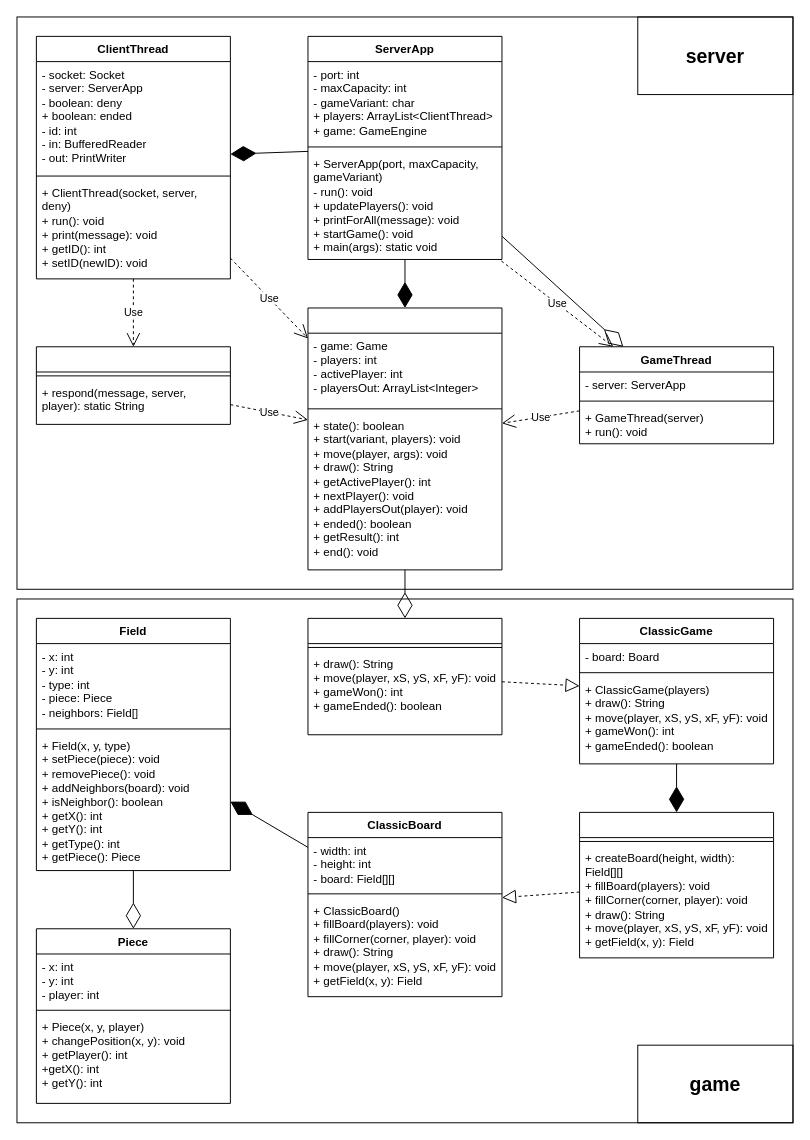
The diagram is 810 pixels wide and 1140 high, and some of its shapes have lost their labels. The shapes that lost their labels are listed below. From the top down, each one's box as (x1, y1, x2, y2) in pixels, then its label:
(35, 346, 230, 424): Interpreter
(307, 307, 502, 570): GameEngine
(307, 617, 502, 735): <<interface>> Game
(579, 811, 774, 958): <<inteface>> Board
